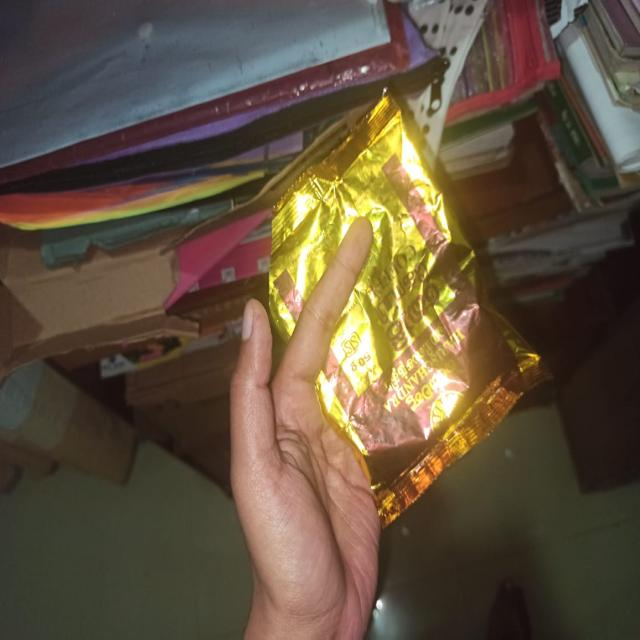Harischandra Coffee: (252, 162, 543, 506)
